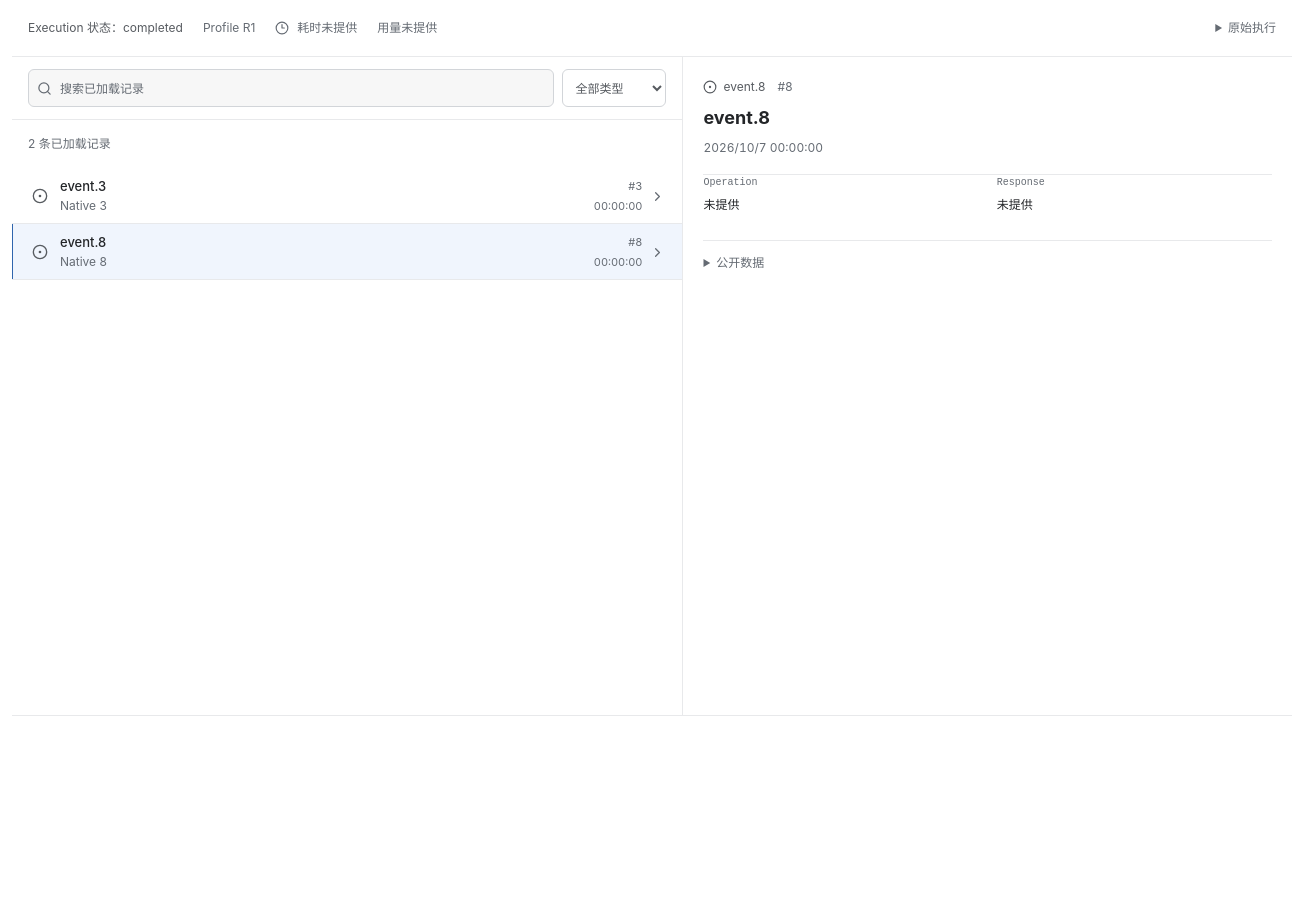
Test case: shows original pins and Execution status separately with no invented measurements
Check: the heading "event.8" is shown, box [704,107,770,128]
Check: the text "Execution 状态：completed" is shown, box [28,18,183,38]
Click the heading "原始执行": (1252, 28) [1228,20,1276,35]
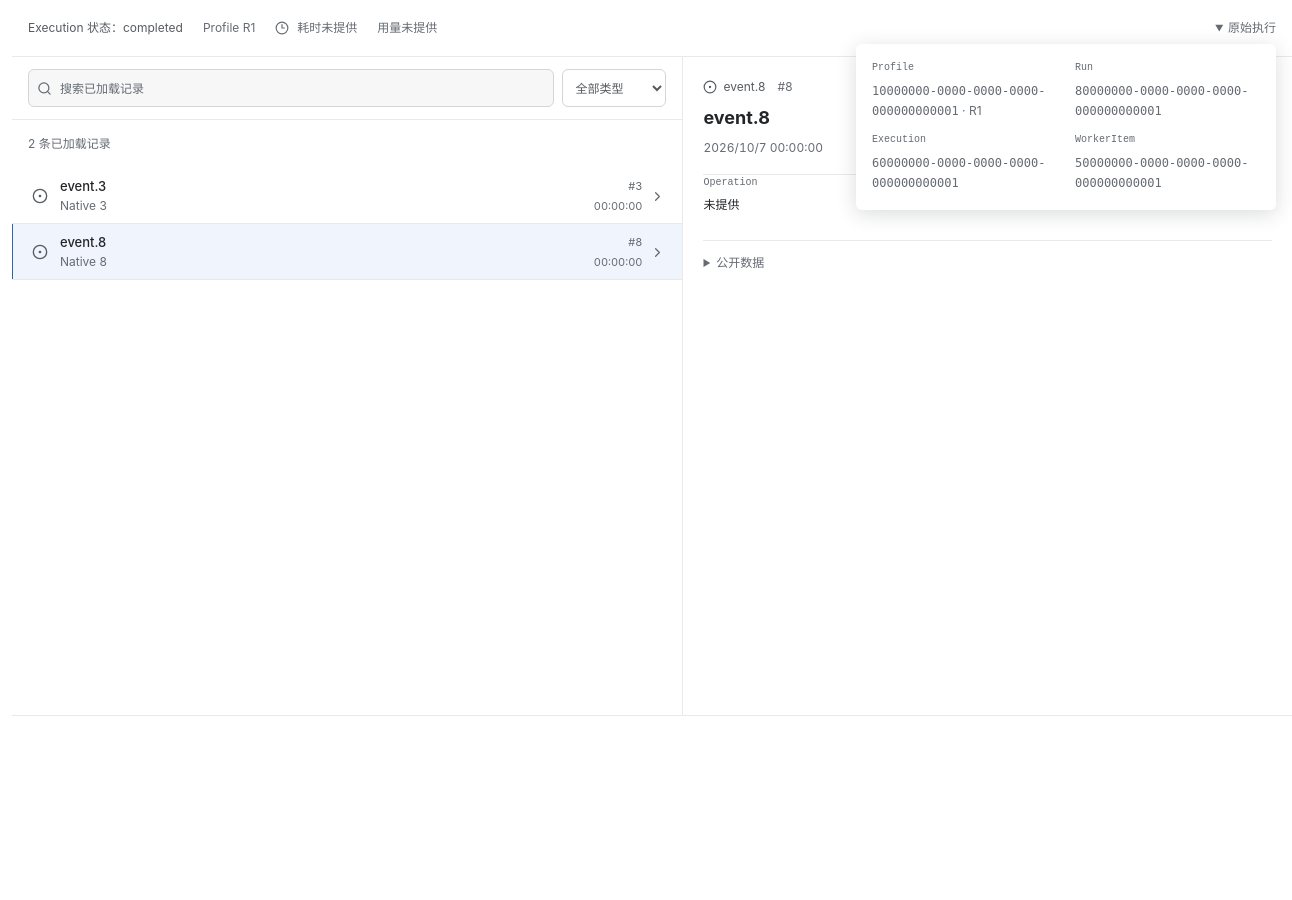
Check: the text "80000000-0000-0000-0000-000000000001" is shown, box [1075,84,1248,118]
Check: the text "60000000-0000-0000-0000-000000000001" is shown, box [872,156,1045,190]
